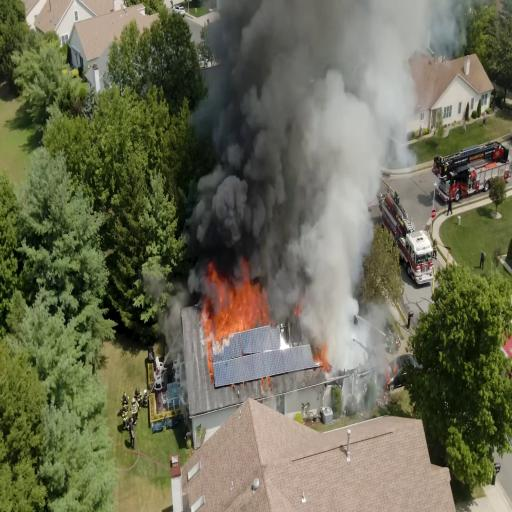fire: (195, 242, 276, 345)
smoke: (191, 16, 324, 232), (309, 101, 353, 320)
